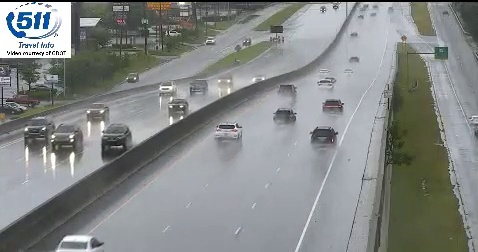car: (312, 127, 336, 147), (215, 123, 243, 140), (275, 108, 296, 125), (323, 99, 343, 114), (278, 84, 297, 98), (317, 79, 333, 90)
